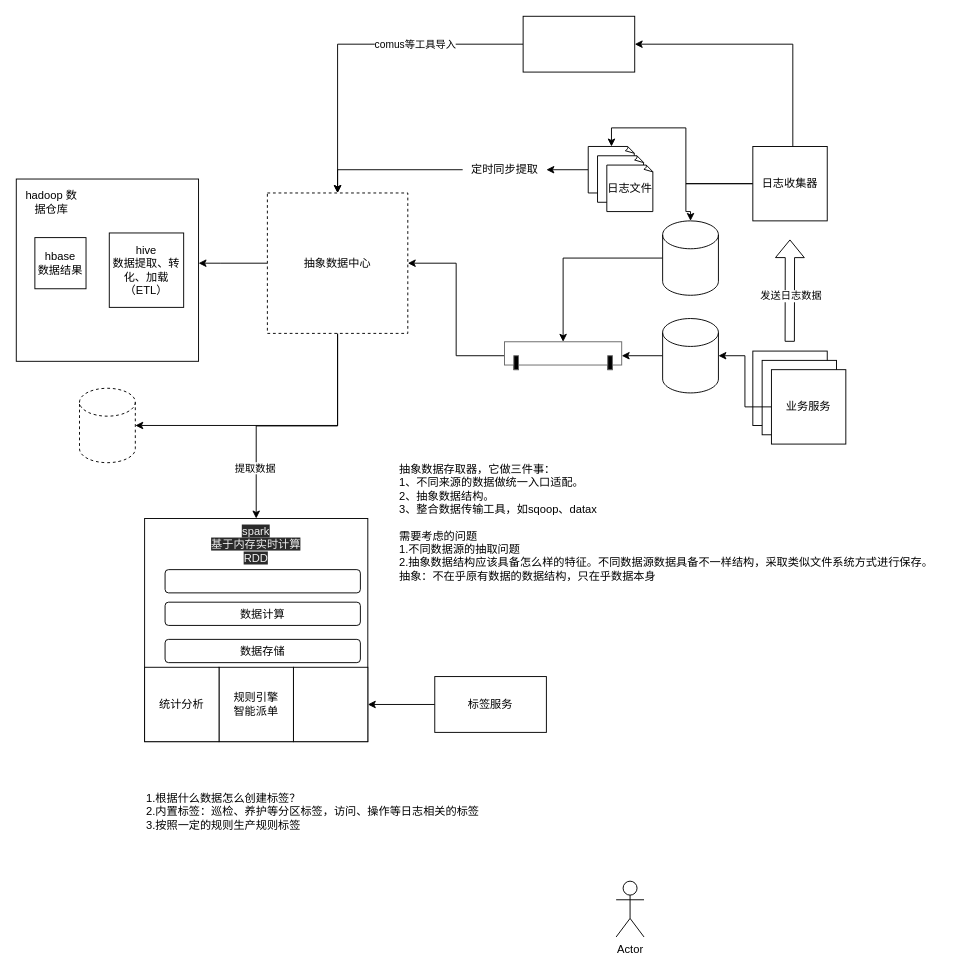
Some shapes in this 963 by 973 pixel diagram are drawn without their labels. Here are the shapes that lost their labels. From the top down, the centre of each, then its label:
At point 578,43: "kafka".
At point 690,257: "日志数据库".
At point 563,355: "sqoop工具转化数据".
At point 690,355: "业务数据库".
At point 107,425: "抽象数据存储".
At point 262,581: "RDD创建".
At point 330,704: "用户画像标签分析器".
